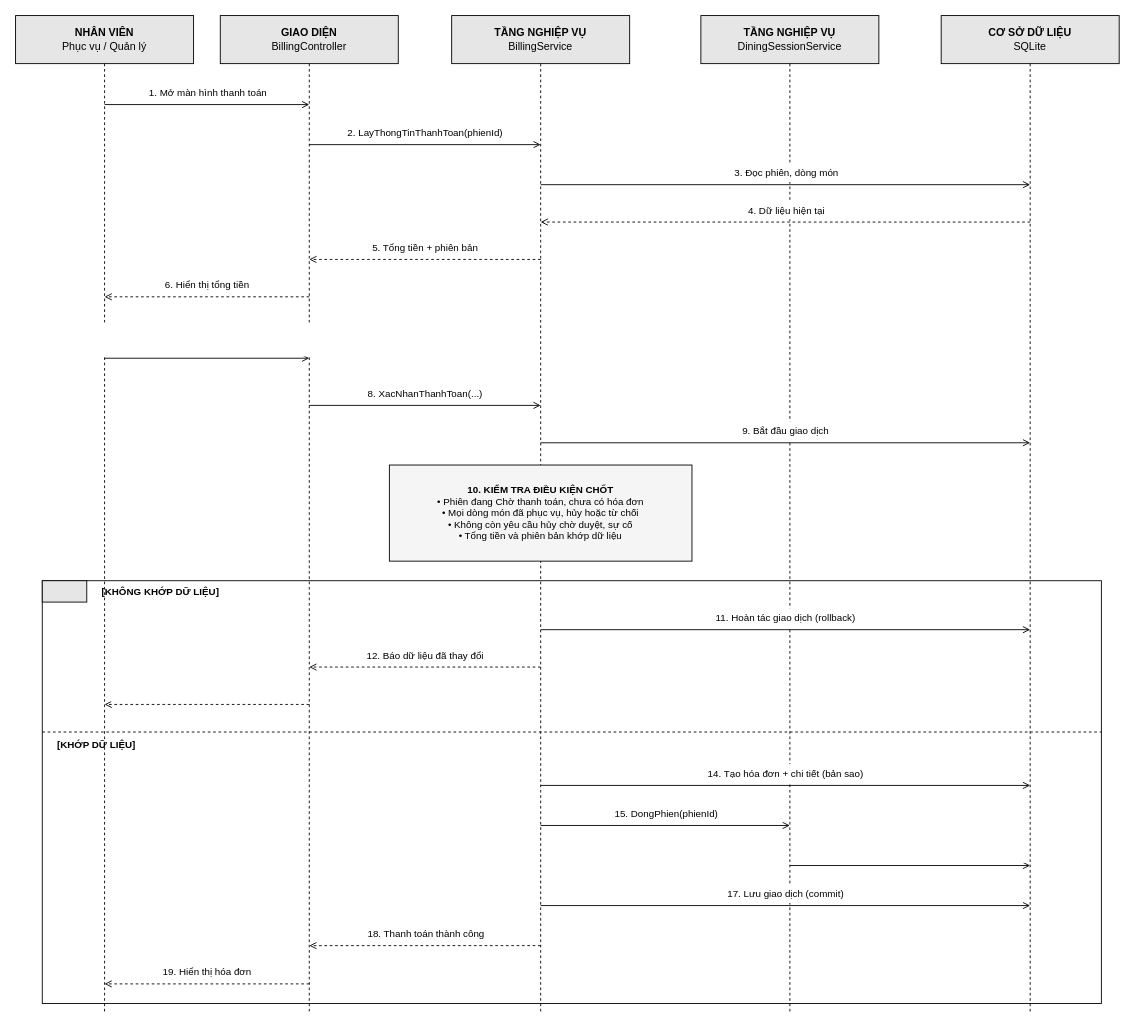
The diagram is 1135 pixels wide and 1029 high, and some of its shapes have lost their labels. The centre of each missing label's shape, as x and y in pixels:
13. Tải lại, hiển thị thông báo: point (206, 692)
16. Đóng phiên, thu hồi quyền, trả bàn: point (909, 853)
7. Xác nhận đã thu tiền (tổng tiền, phiên bản, phương thức): point (206, 339)
alt: point (64, 591)
